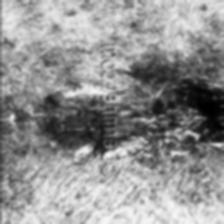Potentially Malignant Skin Tumors: (141, 79, 224, 155)
